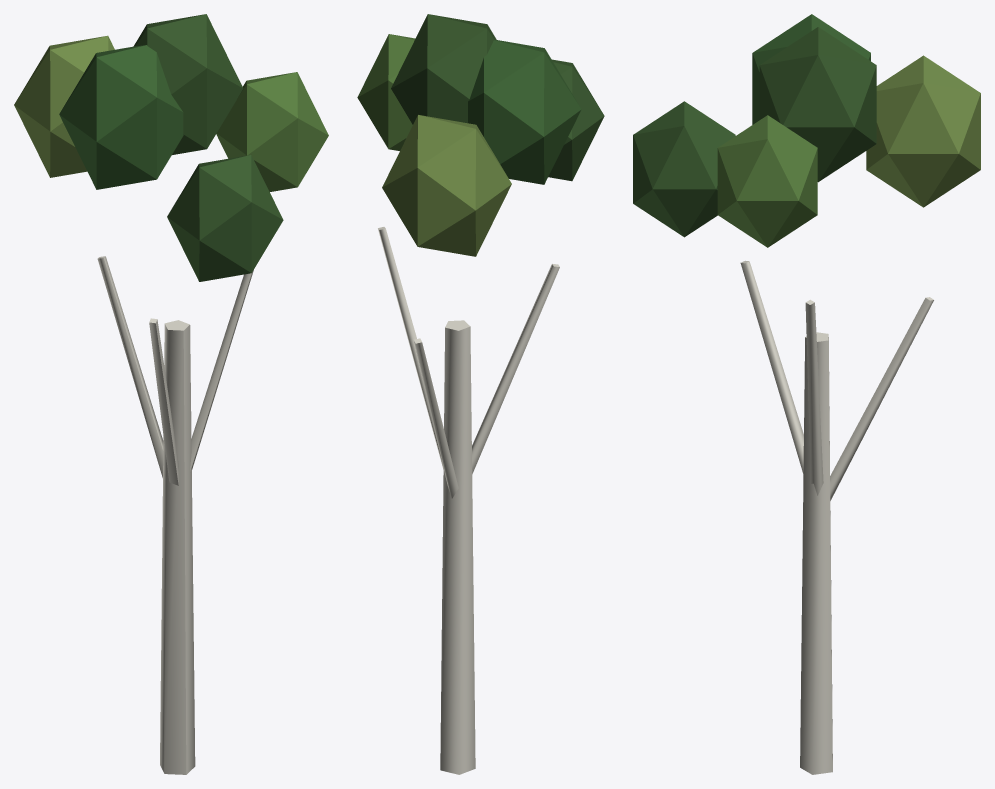
Rendered from broadleaf-columnar.far.glb.
3 renders of one model, left to right at view 1: azimuth 30°, elevation 25°; view 2: azimuth 150°, elevation 25°; view 3: azimuth 270°, elevation 25°, orthographic. The views are drawn at different scales.
Parts seen in each view (by area): view 1: foliage, wood; view 2: foliage, wood; view 3: foliage, wood.
Part boxes in pixels (bbox=[...]): foliage: bbox=[14, 14, 328, 281]; wood: bbox=[97, 256, 253, 774]; foliage: bbox=[357, 14, 604, 256]; wood: bbox=[378, 227, 559, 774]; foliage: bbox=[633, 14, 980, 247]; wood: bbox=[740, 260, 933, 774].
Size of the model in its own units: 3.87 by 13 by 5.64.
